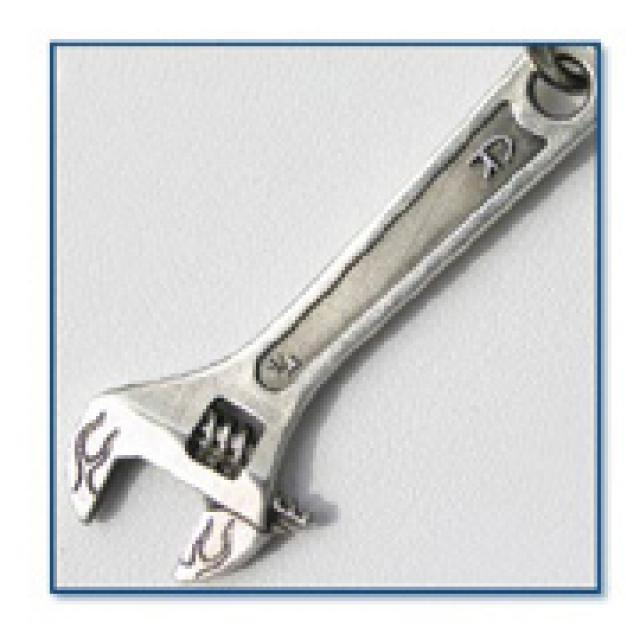wrench: (63, 48, 596, 588)
